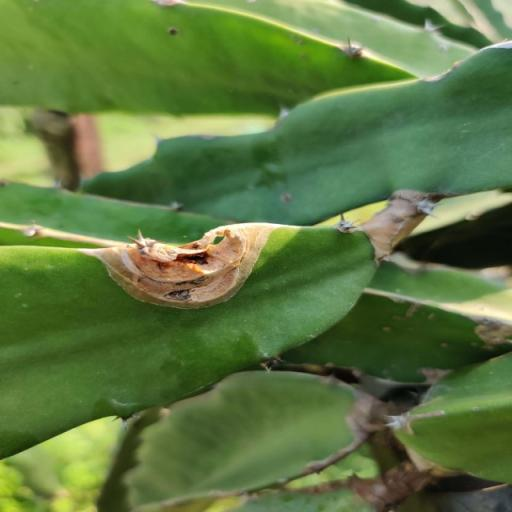stemcanker: (417, 304, 445, 330), (273, 190, 299, 210), (15, 290, 36, 309), (166, 23, 187, 40), (290, 34, 308, 48), (376, 324, 396, 336), (297, 50, 314, 60), (438, 337, 450, 351), (467, 339, 481, 350), (470, 404, 483, 415), (392, 286, 404, 296), (244, 0, 259, 7), (488, 370, 499, 376)
